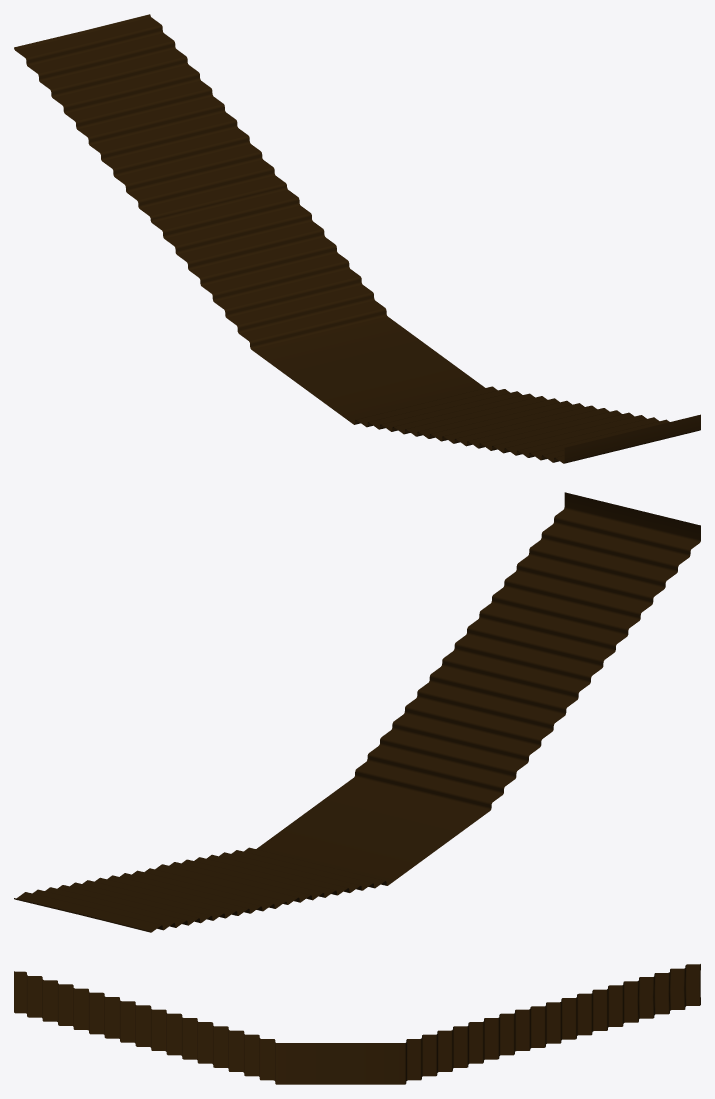
The model's file is Stairs.fbx.
3 views of the same model, one above another, from view 1: azimuth 30°, elevation 25°; view 2: azimuth 150°, elevation 25°; view 3: azimuth 270°, elevation 25° (orthographic). The views are drawn at different scales.
Visible parts, largest first — view 1: underground stairs.002; view 2: underground stairs.002; view 3: underground stairs.002.
Part boxes in pixels (x1=…): underground stairs.002: x1=14, y1=14, x2=700, y2=463; underground stairs.002: x1=14, y1=492, x2=700, y2=932; underground stairs.002: x1=14, y1=964, x2=700, y2=1084.
Bounding box in the file's own units: 450 × 3145 × 413.
